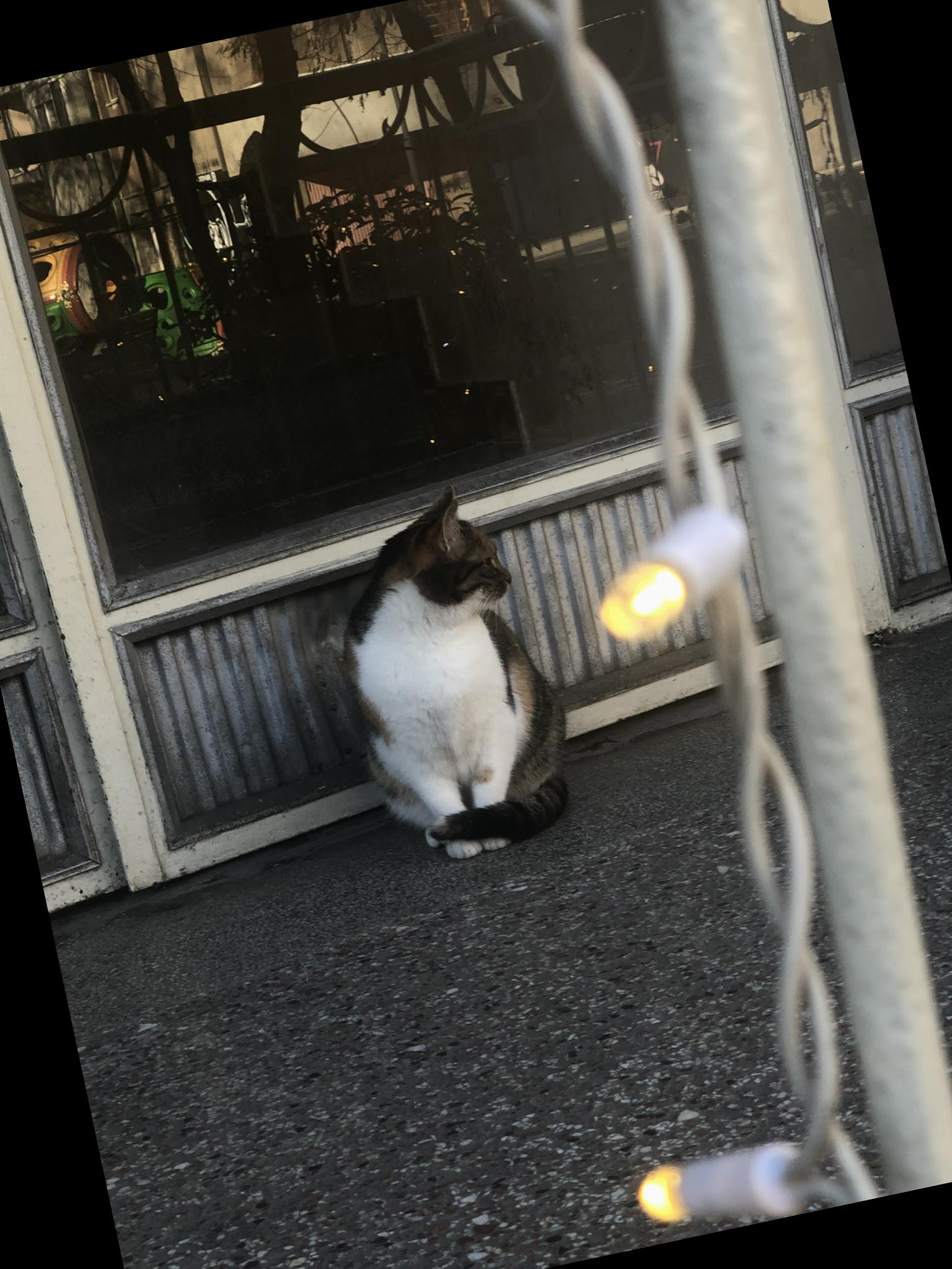macka: (306, 467, 592, 875)
